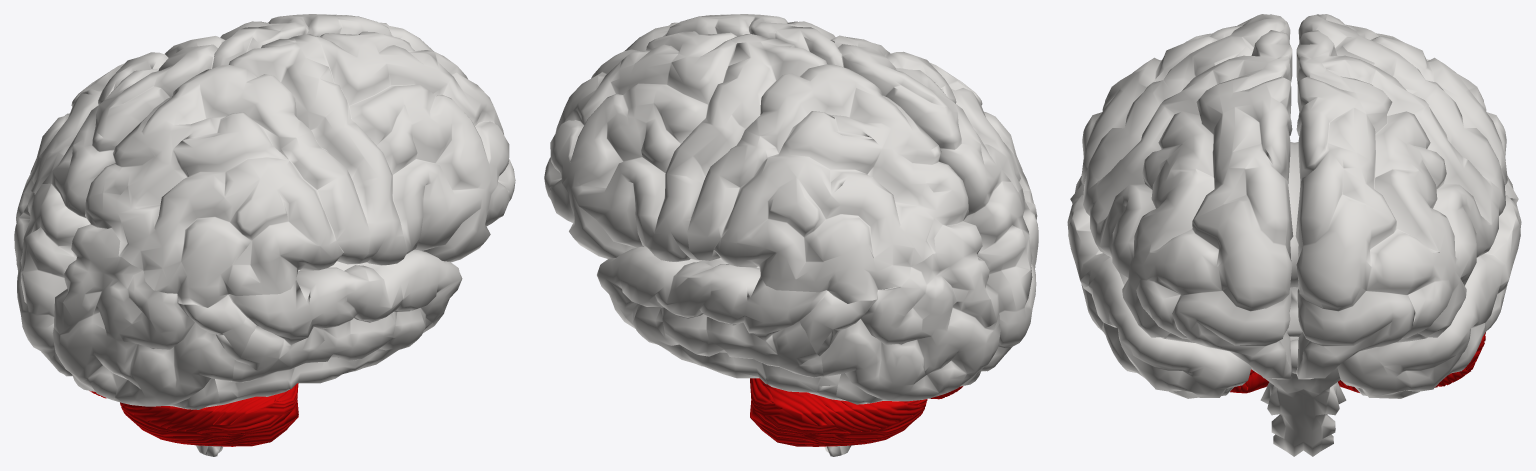
The model's file is brain.obj.
3 views of the same model, side by side, from view 1: azimuth 30°, elevation 25°; view 2: azimuth 150°, elevation 25°; view 3: azimuth 270°, elevation 25° (orthographic). The views are drawn at different scales.
Visible parts, largest first — view 1: Material2.002, Material2.006, Material2.005, Material2.001, Material2.009; view 2: Material2.002, Material2.006, Material2.005, Material2.001, Material2.009; view 3: Material2.006, Material2.001, Material2.002, Material2.004, Material2.008, Material2.009.
Part boxes in pixels (bbox=[...]): Material2.002: bbox=[22, 36, 370, 307]; Material2.006: bbox=[212, 14, 515, 265]; Material2.005: bbox=[14, 183, 256, 409]; Material2.001: bbox=[205, 250, 462, 407]; Material2.009: bbox=[90, 383, 298, 446]; Material2.002: bbox=[687, 35, 1030, 303]; Material2.006: bbox=[544, 14, 843, 261]; Material2.005: bbox=[799, 181, 1038, 404]; Material2.001: bbox=[597, 246, 845, 400]; Material2.009: bbox=[750, 378, 963, 446]; Material2.006: bbox=[1083, 30, 1505, 379]; Material2.001: bbox=[1067, 176, 1521, 398]; Material2.002: bbox=[1081, 14, 1507, 203]; Material2.004: bbox=[1251, 287, 1346, 456]; Material2.008: bbox=[1288, 142, 1300, 287]; Material2.009: bbox=[1230, 332, 1485, 393].
Size of the model in its own units: 6.42 by 5.62 by 5.28.
